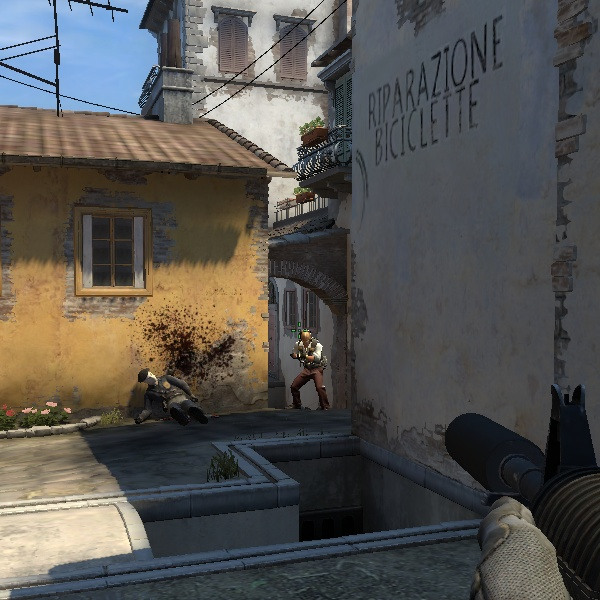t_body: (280, 326, 329, 409)
